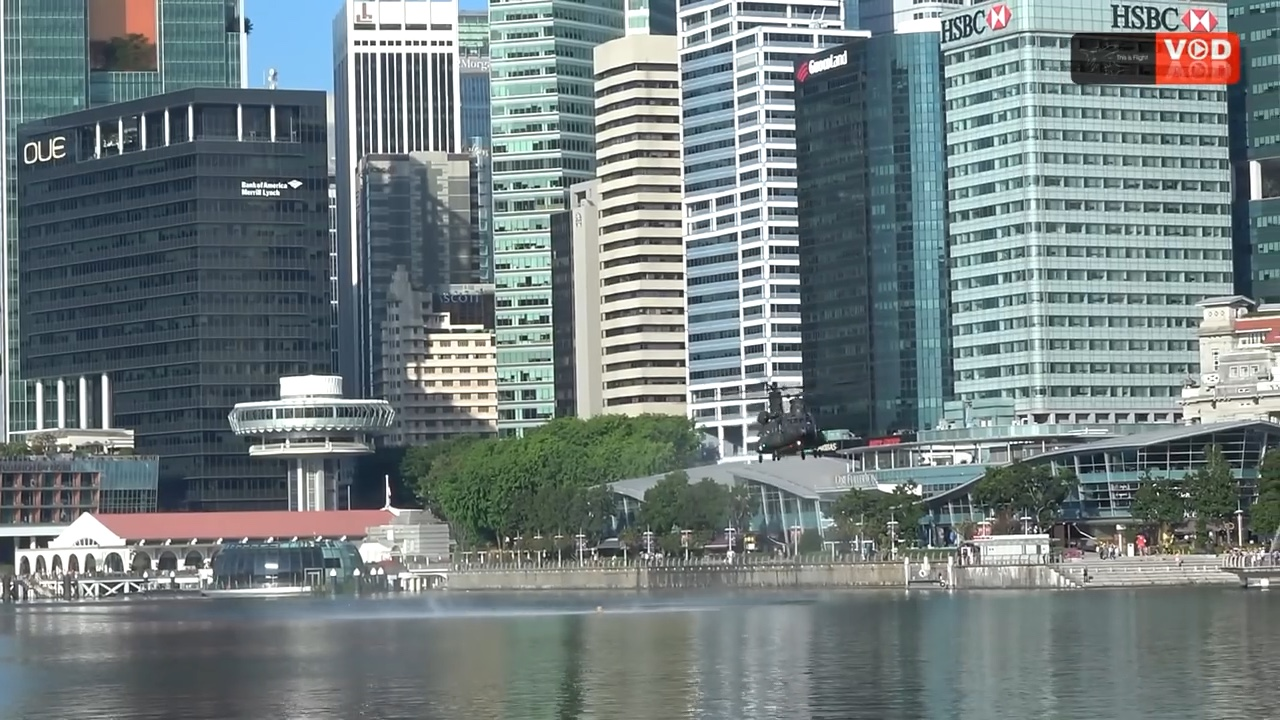chinook: (681, 378, 889, 465)
